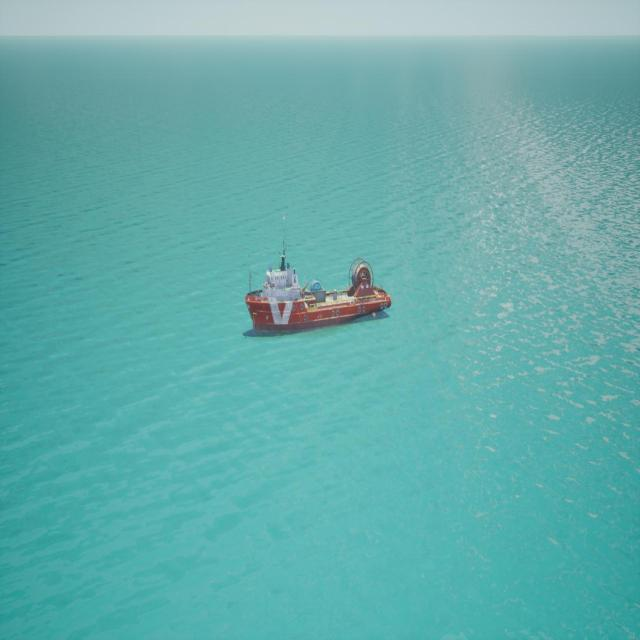tug boat: (241, 214, 391, 344)
